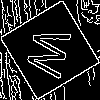W: (25, 25, 80, 82)
